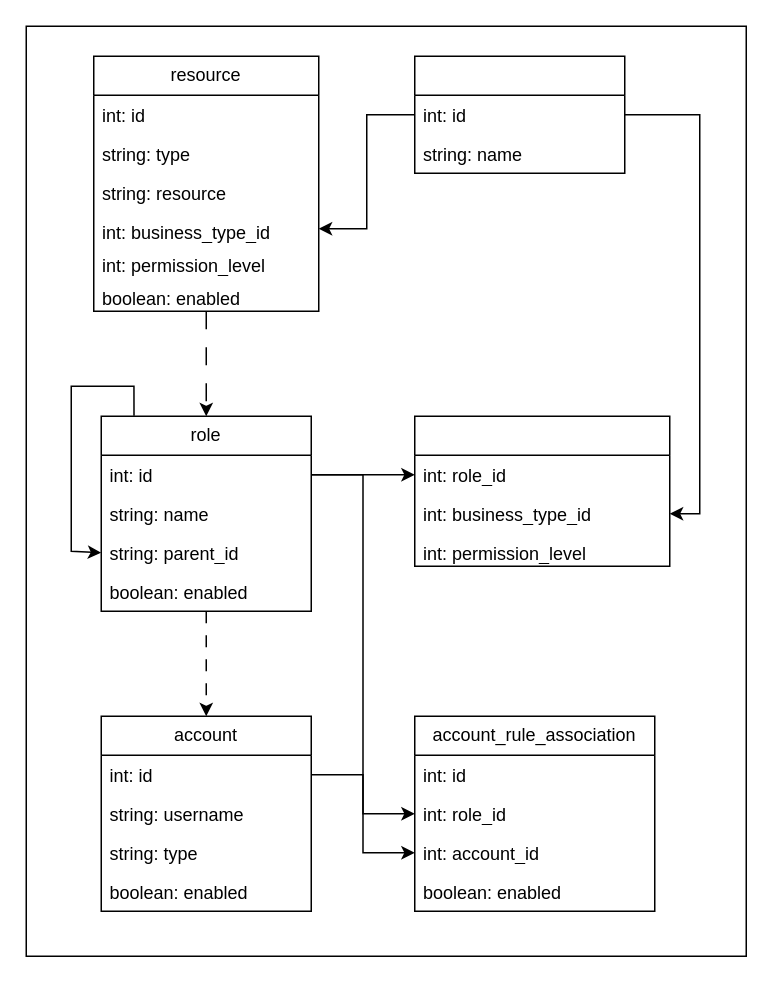
Some shapes in this 773 by 983 pixel diagram are drawn without their labels. The shapes that lost their labels are listed below. From the top down, each one's box as (x1, y1, x2, y2) in pixels, then its label:
(413, 55, 625, 173): business_type
(413, 415, 670, 566): role_access_association
